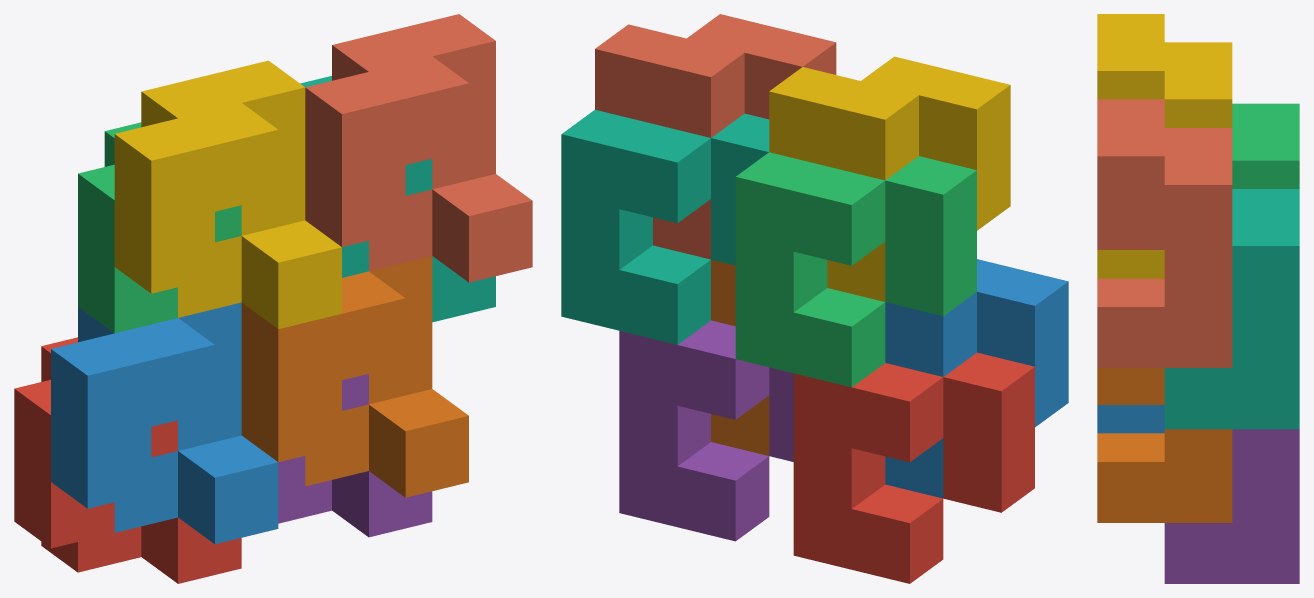
Rendered from tiling.obj.
3 renders of one model, left to right at view 1: azimuth 30°, elevation 25°; view 2: azimuth 150°, elevation 25°; view 3: azimuth 270°, elevation 25°, orthographic. The views are drawn at different scales.
Visible parts, largest first — view 1: copy_1_domain_4, copy_1_domain_8, copy_1_domain_2, copy_1_domain_6, copy_1_domain_1, copy_1_domain_3, copy_1_domain_5, copy_1_domain_7; view 2: copy_1_domain_3, copy_1_domain_1, copy_1_domain_7, copy_1_domain_5, copy_1_domain_4, copy_1_domain_8, copy_1_domain_2, copy_1_domain_6; view 3: copy_1_domain_8, copy_1_domain_7, copy_1_domain_6, copy_1_domain_5, copy_1_domain_4, copy_1_domain_3, copy_1_domain_2.
Part boxes in pixels (x1=…): copy_1_domain_4: x1=114, y1=60, x2=341, y2=329; copy_1_domain_8: x1=305, y1=14, x2=532, y2=282; copy_1_domain_2: x1=51, y1=302, x2=278, y2=544; copy_1_domain_6: x1=241, y1=256, x2=468, y2=497; copy_1_domain_1: x1=14, y1=337, x2=241, y2=583; copy_1_domain_3: x1=78, y1=122, x2=241, y2=333; copy_1_domain_5: x1=278, y1=373, x2=432, y2=537; copy_1_domain_7: x1=300, y1=76, x2=495, y2=322; copy_1_domain_3: x1=735, y1=152, x2=976, y2=387; copy_1_domain_1: x1=793, y1=352, x2=1034, y2=583; copy_1_domain_7: x1=561, y1=110, x2=769, y2=344; copy_1_domain_5: x1=619, y1=320, x2=793, y2=541; copy_1_domain_4: x1=769, y1=56, x2=1010, y2=301; copy_1_domain_8: x1=595, y1=14, x2=836, y2=259; copy_1_domain_2: x1=885, y1=259, x2=1068, y2=498; copy_1_domain_6: x1=711, y1=259, x2=769, y2=455; copy_1_domain_8: x1=1097, y1=99, x2=1232, y2=367; copy_1_domain_7: x1=1164, y1=189, x2=1299, y2=429; copy_1_domain_6: x1=1097, y1=368, x2=1232, y2=522; copy_1_domain_5: x1=1164, y1=429, x2=1299, y2=583; copy_1_domain_4: x1=1097, y1=14, x2=1232, y2=278; copy_1_domain_3: x1=1232, y1=103, x2=1299, y2=188; copy_1_domain_2: x1=1097, y1=405, x2=1164, y2=433.
Size of the model in its own units: 7 by 7 by 3.
